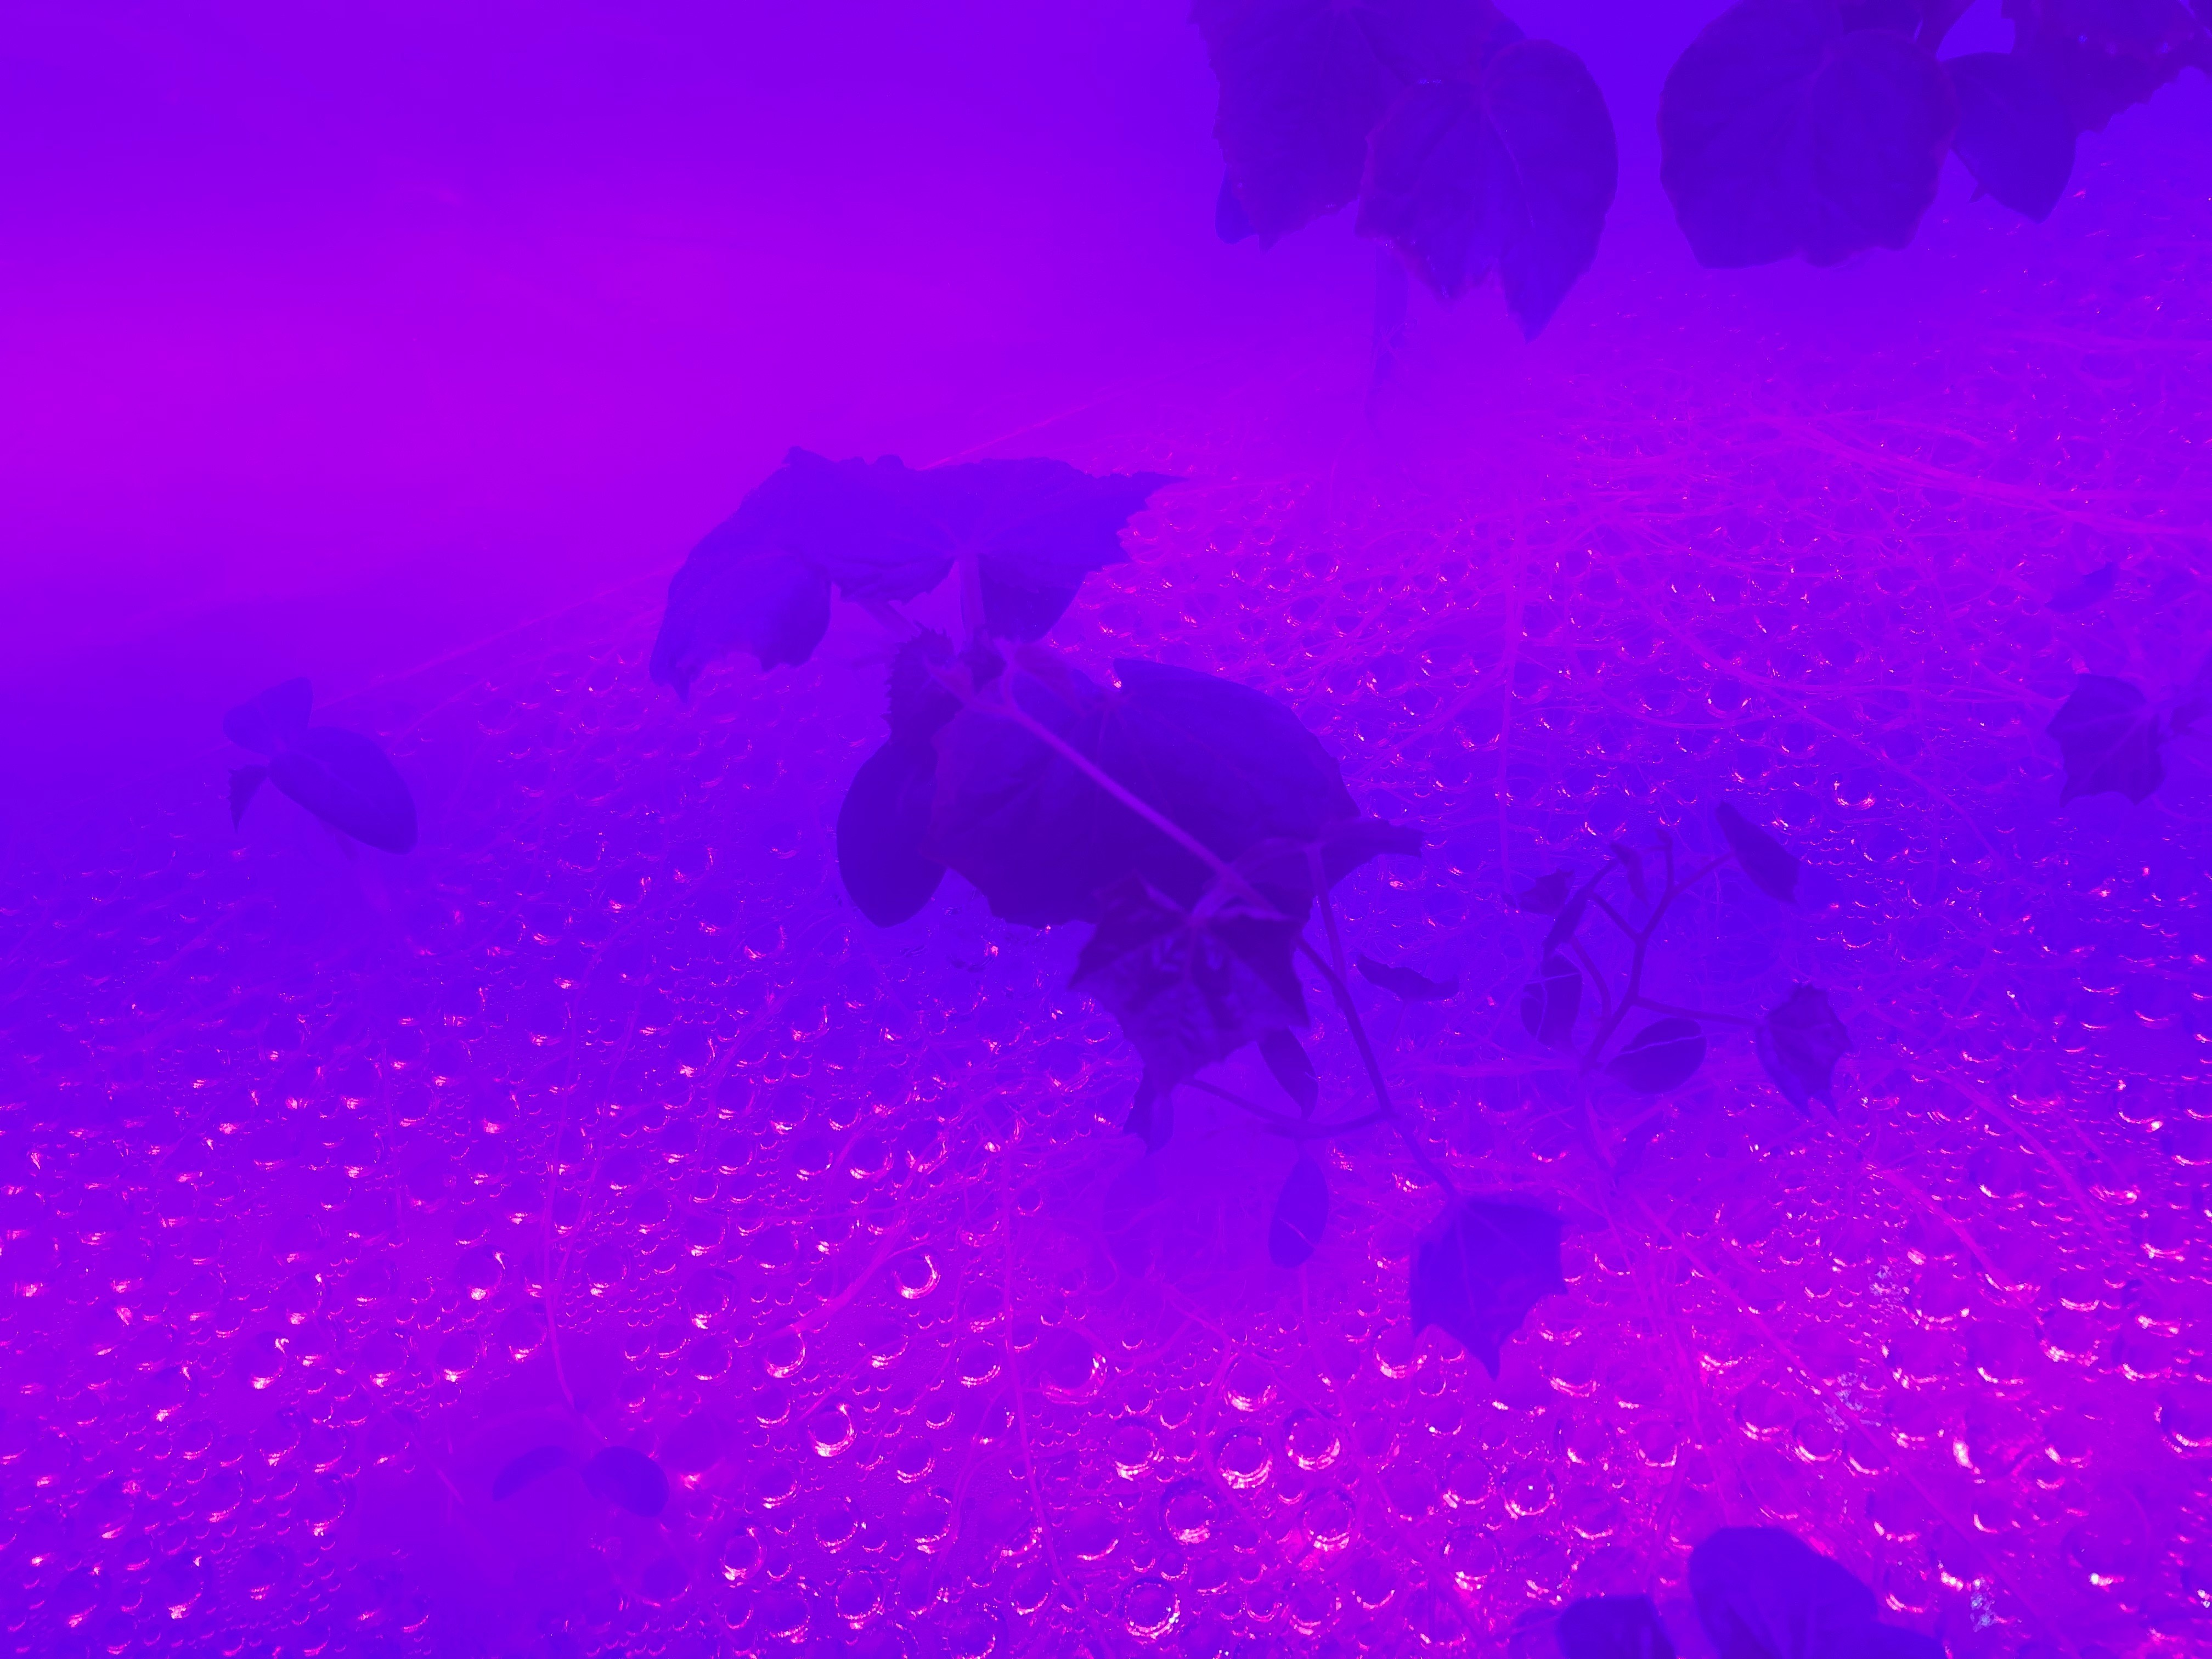lil_plant: (685, 373, 1362, 1124), (1151, 0, 2153, 415), (1468, 765, 1911, 1190), (171, 615, 420, 950)
seedling: (425, 1410, 733, 1575)
